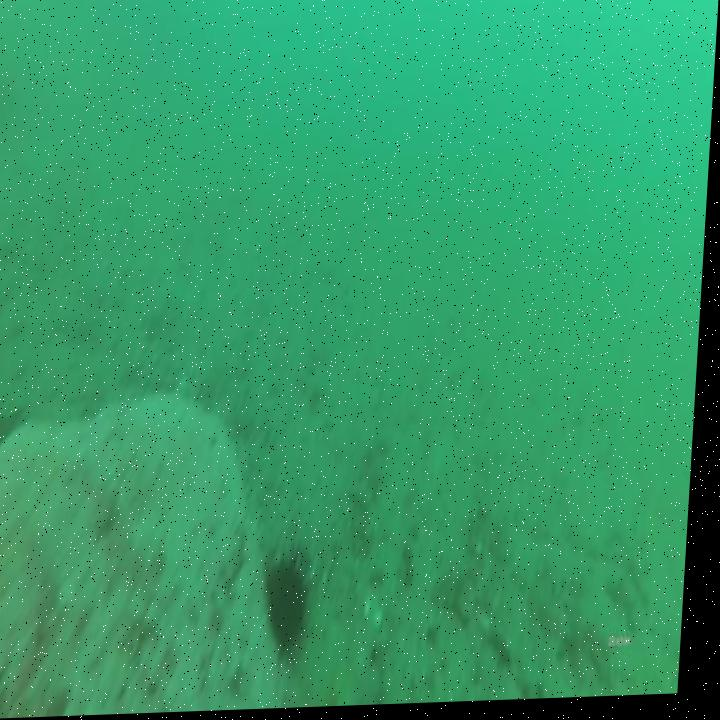echinus: (262, 541, 320, 661)
holothurian: (473, 542, 601, 705), (474, 498, 591, 652)
